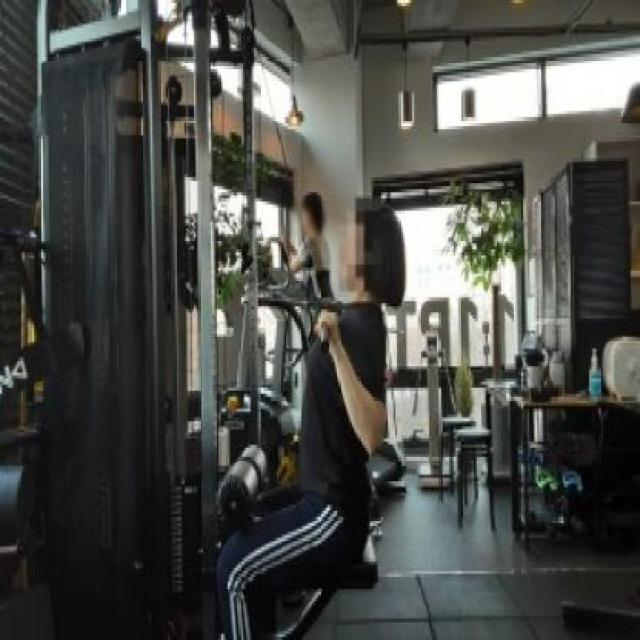Lat Pull Down: (52, 1, 410, 640)
